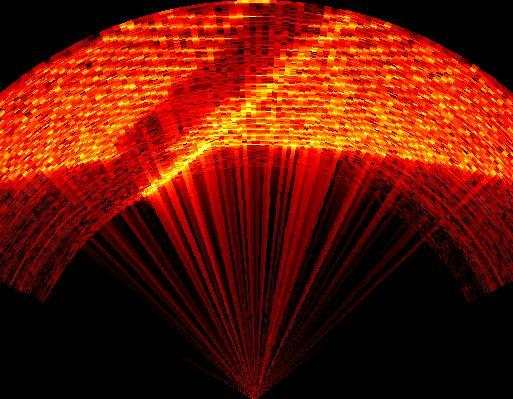pipe: (111, 5, 354, 197)
